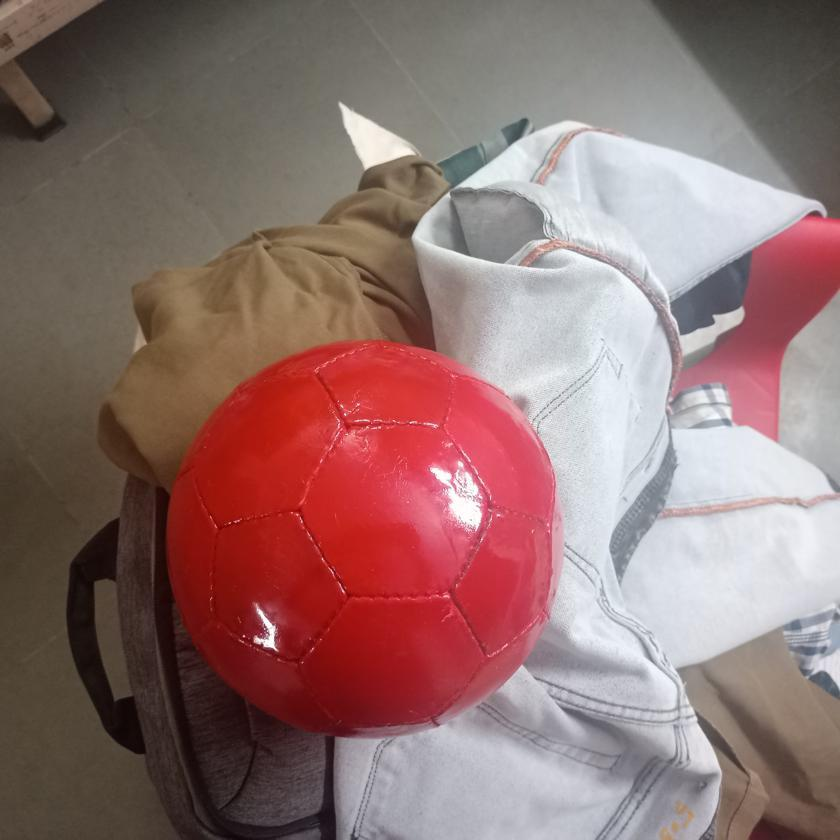Red_Ball: (164, 334, 563, 736)
